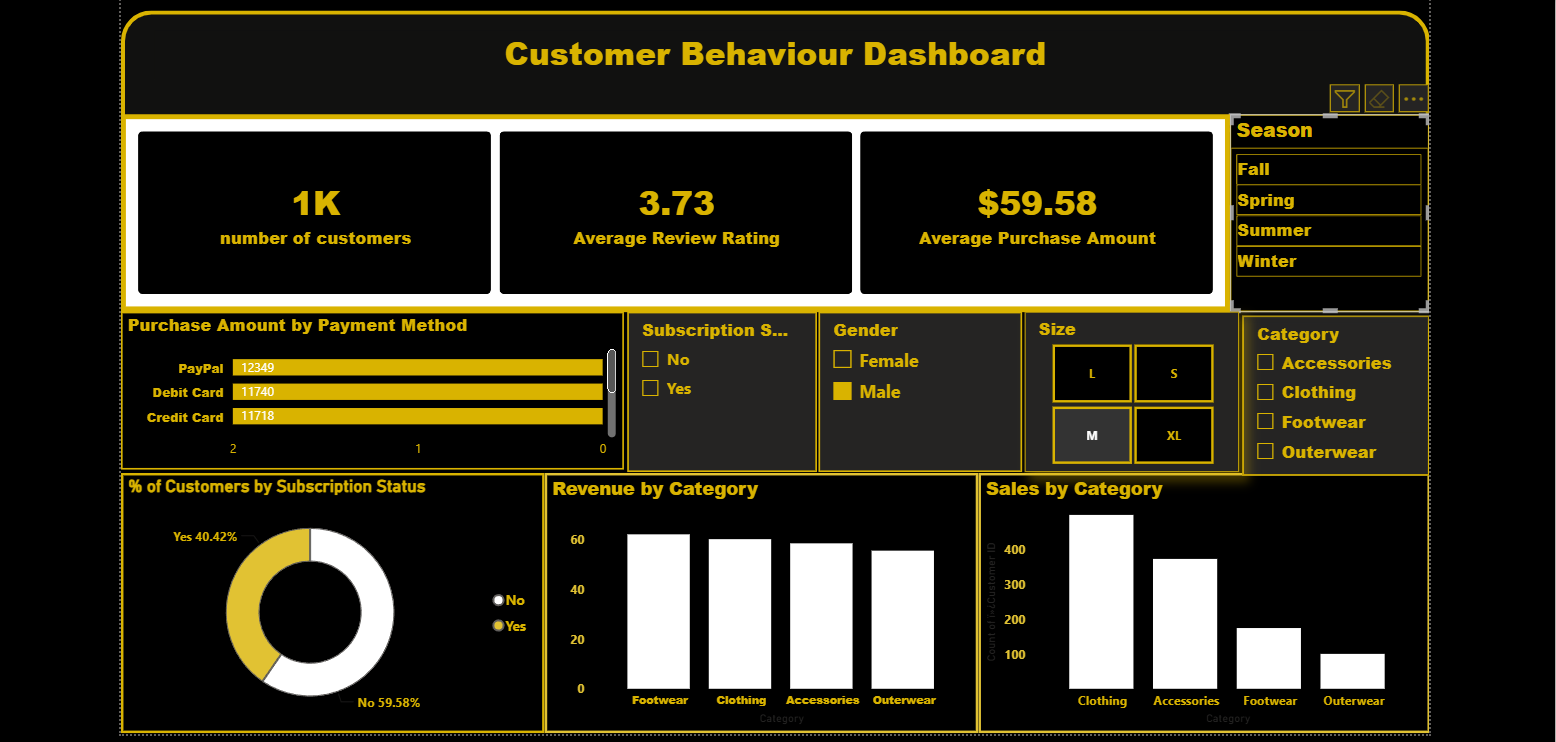

This screenshot's page, from the dashboard's own definition file:
{"tool":"powerbi","page":{"name":"Page 1","canvas":[1280,720],"ordinal":0},"visuals":[{"type":"shape","box":[0,12.2,1280.3,119.2],"z":0},{"type":"textbox","title":"Customer Behaviour Dashboard","box":[28.6,31.4,1224.3,82.9],"z":1000},{"type":"donutChart","title":"% of Customers by Subscription Status","fields":{"Category":["customer.Subscription Status"],"Y":["CountNonNull(customer.ï»¿Customer ID)"]},"box":[0,464.7,414.6,254.7],"z":2000},{"type":"clusteredColumnChart","title":"Revenue by Category","fields":{"Y":["Avg(customer.Purchase Amount (USD))"],"Category":["customer.Category"]},"box":[414.6,464.7,424,254.7],"z":3000},{"type":"clusteredColumnChart","title":"Sales by Category","fields":{"Y":["CountNonNull(customer.ï»¿Customer ID)"],"Category":["customer.Category"]},"box":[838.6,464.7,441.7,254.7],"z":4000},{"type":"slicer","fields":{"Values":["customer.Gender"]},"box":[682.8,307.5,199.2,157.2],"z":5000},{"type":"slicer","fields":{"Values":["customer.Subscription Status"]},"box":[494.6,307.5,185.6,157.2],"z":6000},{"type":"slicer","fields":{"Values":["customer.Category"]},"box":[1097.1,310.2,182.9,157.2],"z":7000},{"type":"listSlicer","fields":{"Values":["customer.Season"]},"box":[1085.2,113.8,195.1,193.7],"z":8000},{"type":"slicer","fields":{"Values":["customer.Size"]},"box":[884.7,307.5,210,157.2],"z":9000},{"type":"barChart","title":"Purchase Amount by Payment Method","fields":{"Y":["Sum(customer.Purchase Amount (USD))"],"Category":["customer.Payment Method"]},"box":[0,307.5,491.8,154.4],"z":10000},{"type":"cardVisual","fields":{"Data":["customer.number of customers","customer.Average Review Rating","customer.Average Purchase Amount"]},"box":[0,113.8,1085.2,193.7],"z":11000}]}

Visuals, with their boxes in screenshot pixels (x1, y1, x2, y2):
shape: [x1=122, y1=8, x2=1422, y2=129]
"Customer Behaviour Dashboard" textbox: [x1=151, y1=28, x2=1394, y2=112]
"% of Customers by Subscription Status" donutChart: [x1=122, y1=468, x2=543, y2=727]
"Revenue by Category" clusteredColumnChart: [x1=543, y1=468, x2=973, y2=727]
"Sales by Category" clusteredColumnChart: [x1=973, y1=468, x2=1422, y2=727]
slicer - customer.Gender: [x1=815, y1=308, x2=1017, y2=468]
slicer - customer.Subscription Status: [x1=624, y1=308, x2=812, y2=468]
slicer - customer.Category: [x1=1236, y1=311, x2=1422, y2=471]
listSlicer - customer.Season: [x1=1224, y1=112, x2=1422, y2=308]
slicer - customer.Size: [x1=1020, y1=308, x2=1233, y2=468]
"Purchase Amount by Payment Method" barChart: [x1=122, y1=308, x2=621, y2=465]
cardVisual - customer.number of customers x customer.Average Review Rating: [x1=122, y1=112, x2=1224, y2=308]
